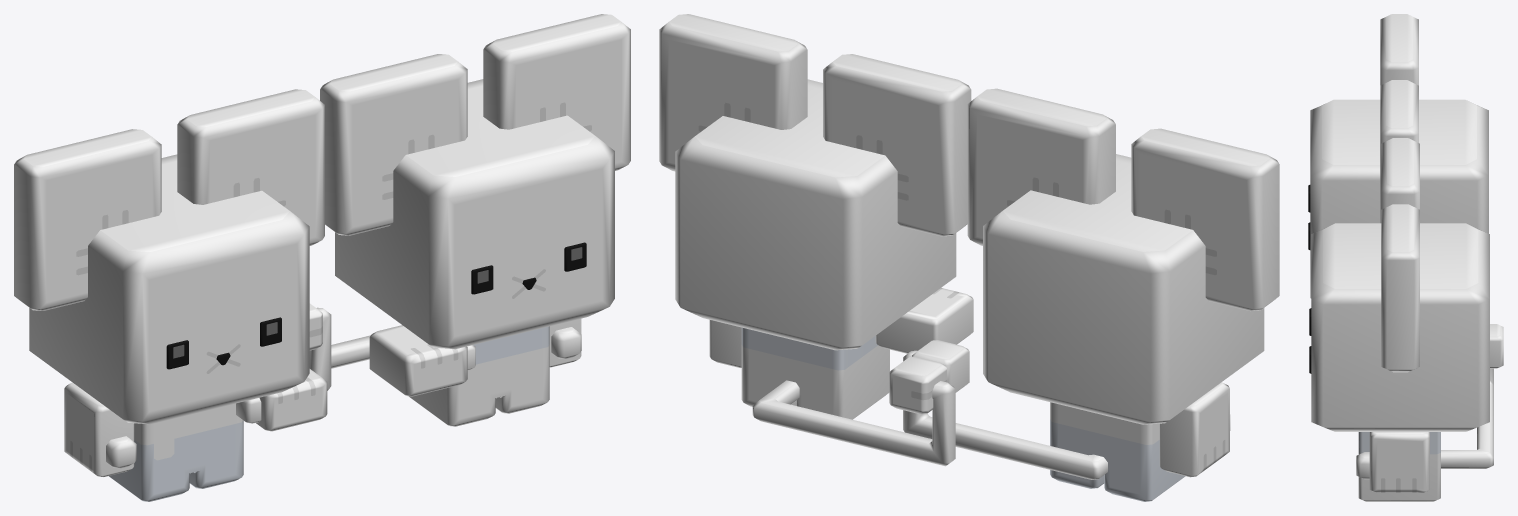
The picture shows the model from 3 angles, left to right: view 1: azimuth 30°, elevation 25°; view 2: azimuth 150°, elevation 25°; view 3: azimuth 270°, elevation 25°; orthographic projection. The views are drawn at different scales.
Visible parts, largest first — view 1: 0924_tandemaus; view 2: 0924_tandemaus; view 3: 0924_tandemaus.
Part boxes in pixels (x1=…): 0924_tandemaus: x1=14, y1=14, x2=630, y2=501; 0924_tandemaus: x1=659, y1=14, x2=1279, y2=501; 0924_tandemaus: x1=1308, y1=14, x2=1503, y2=501.
Bounding box in the file's own units: 2.54 × 1.4 × 0.8632.
Materials: 1 (1 with a texture image).
